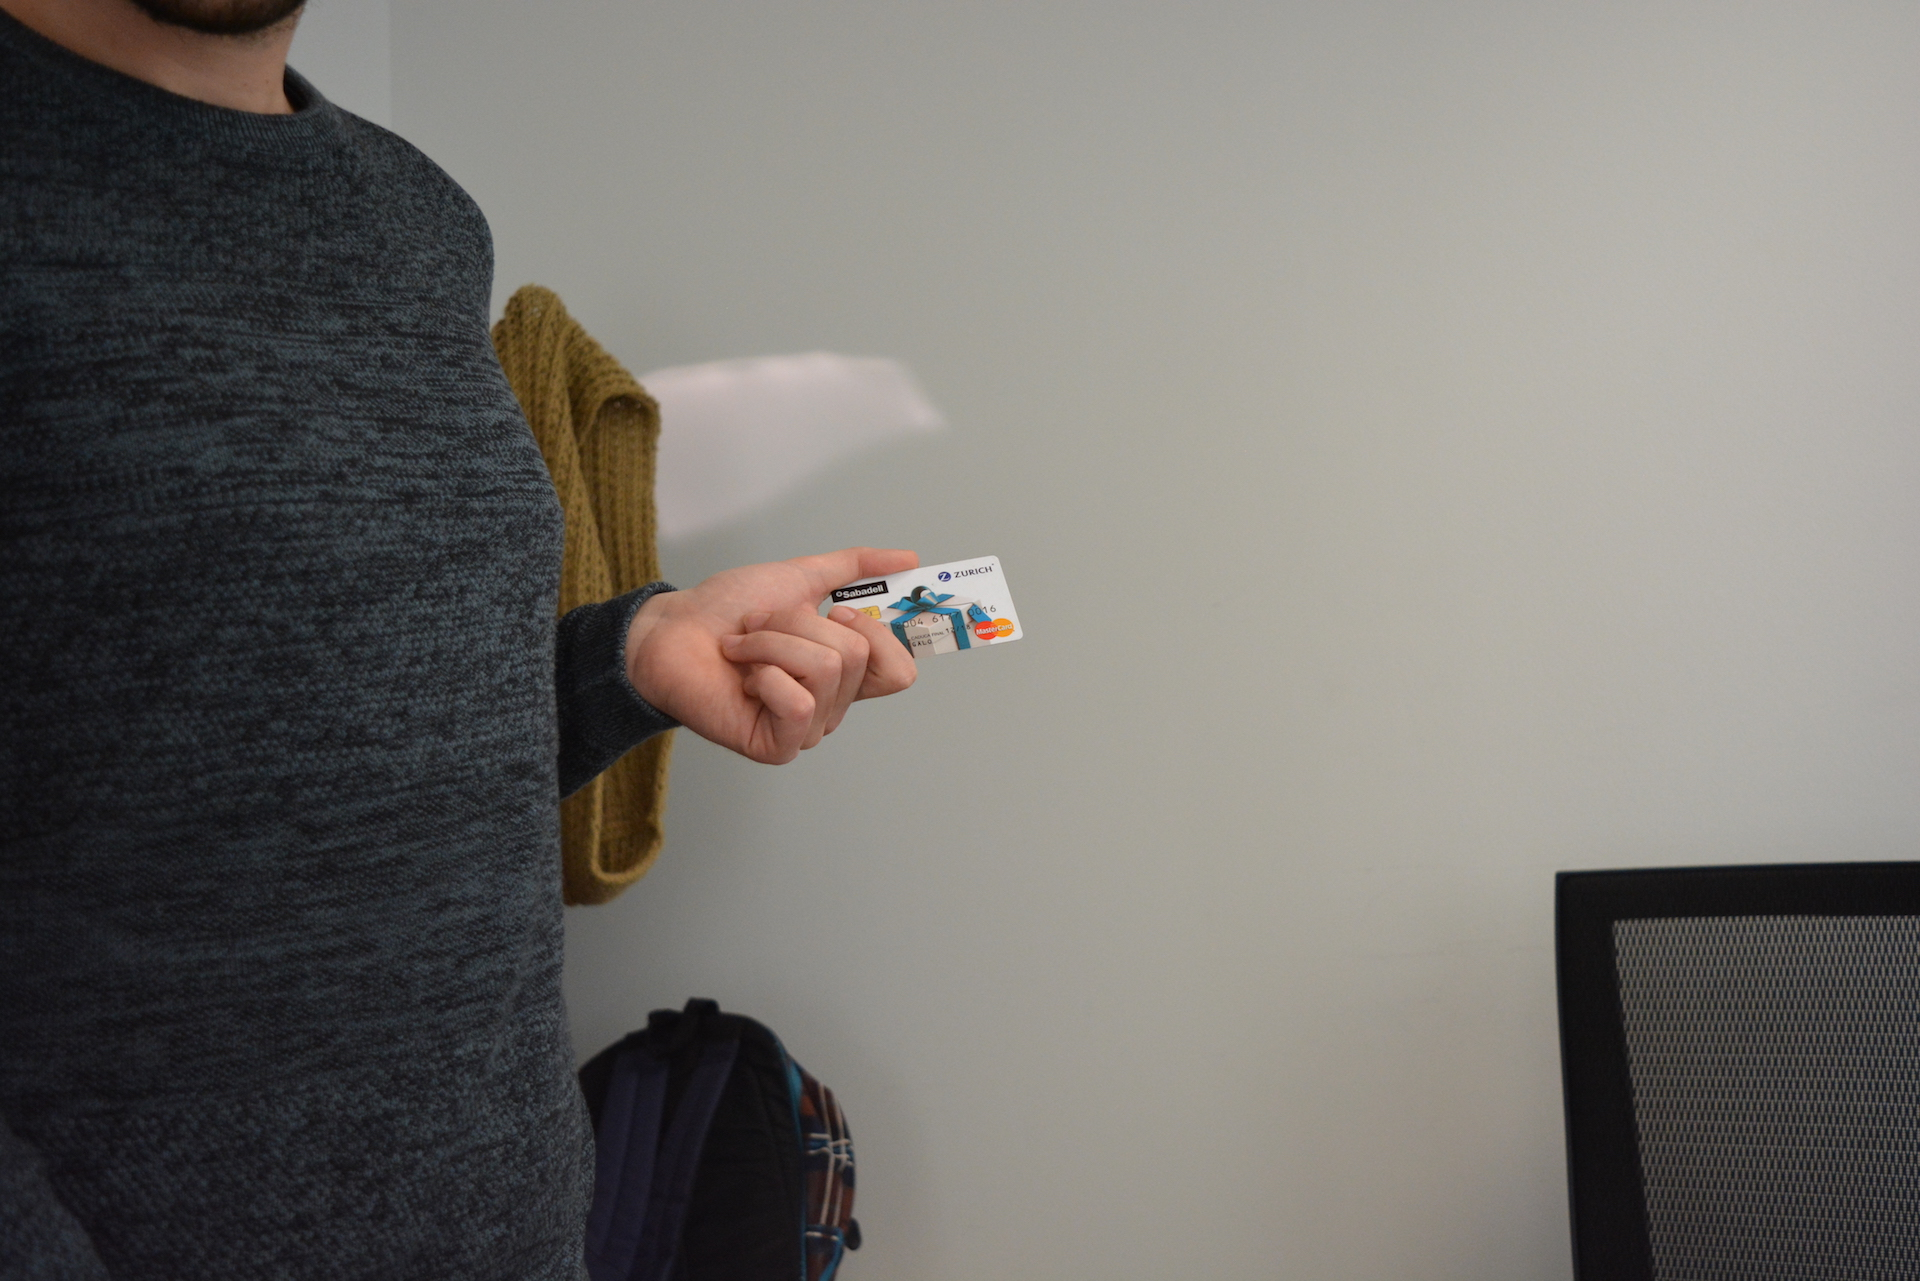tarjeta: (828, 553, 1025, 663)
